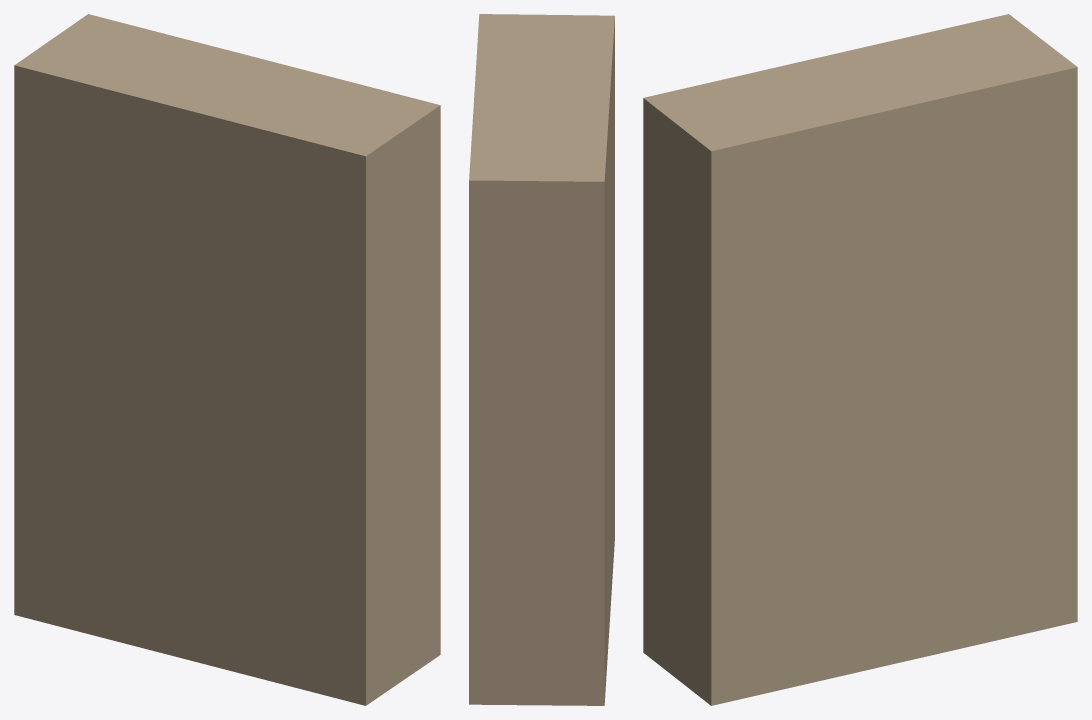
Rendered from bld_107610493.dae.
3 renders of one model, left to right at view 1: azimuth 30°, elevation 25°; view 2: azimuth 150°, elevation 25°; view 3: azimuth 270°, elevation 25°, orthographic. The views are drawn at different scales.
Parts seen in each view (by area): view 1: bld_107610493; view 2: bld_107610493; view 3: bld_107610493.
Boxes of the visible parts, box(x1,y1,x2,y2) form: bld_107610493: box(14, 14, 440, 705); bld_107610493: box(469, 14, 614, 705); bld_107610493: box(643, 14, 1077, 705).
Bounding box in the file's own units: 4.25 × 5.68 × 8.
